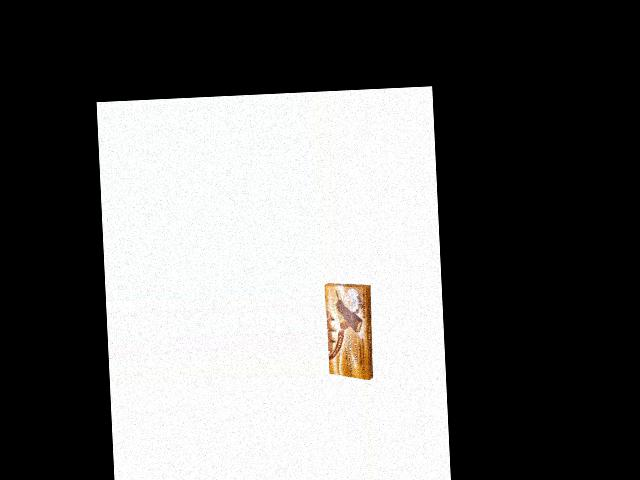chocolate: (323, 280, 375, 384)
